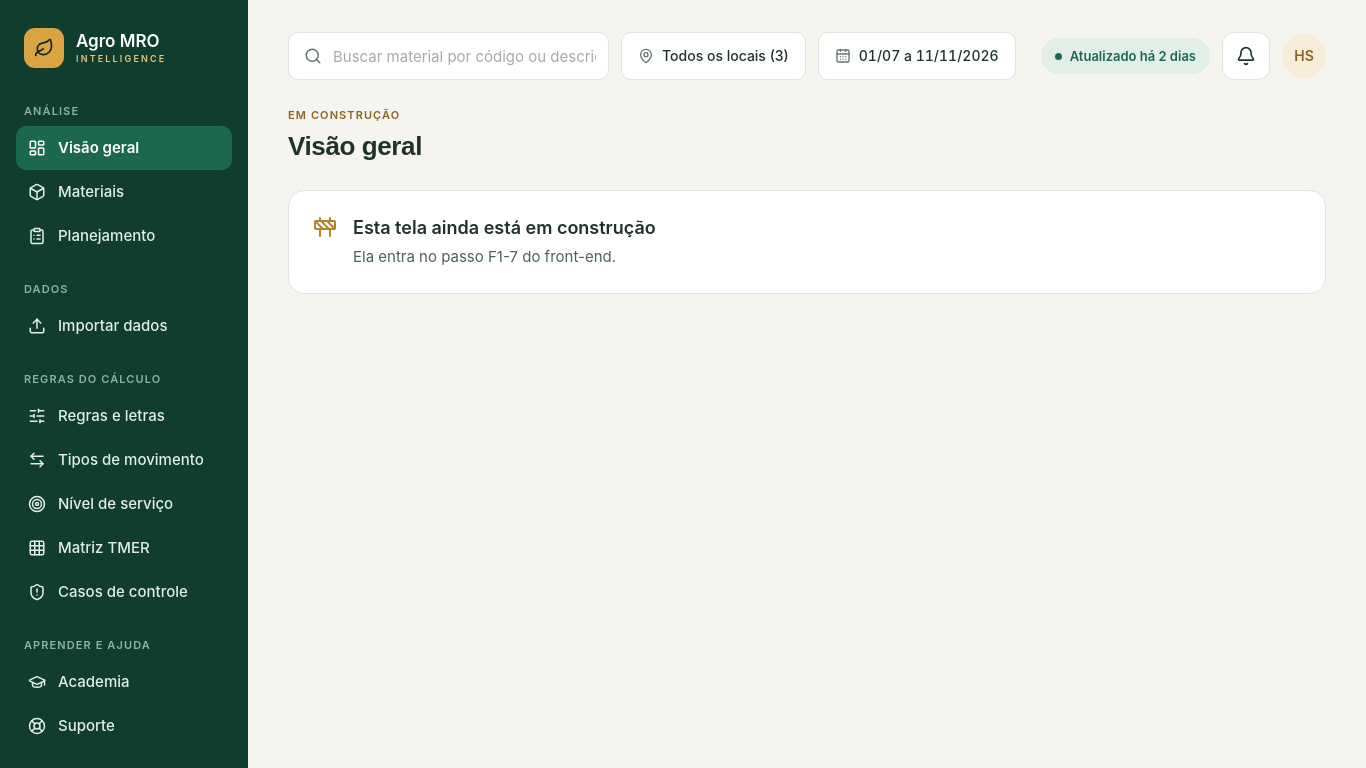
Test case: BuscaGlobal › ignora acento e marca o trecho encontrado
This screenshot has width=1366, height=768.
Type "oleo" into the dropdown named "Buscar material ou tela" at (449, 56), box [288,32,609,80]
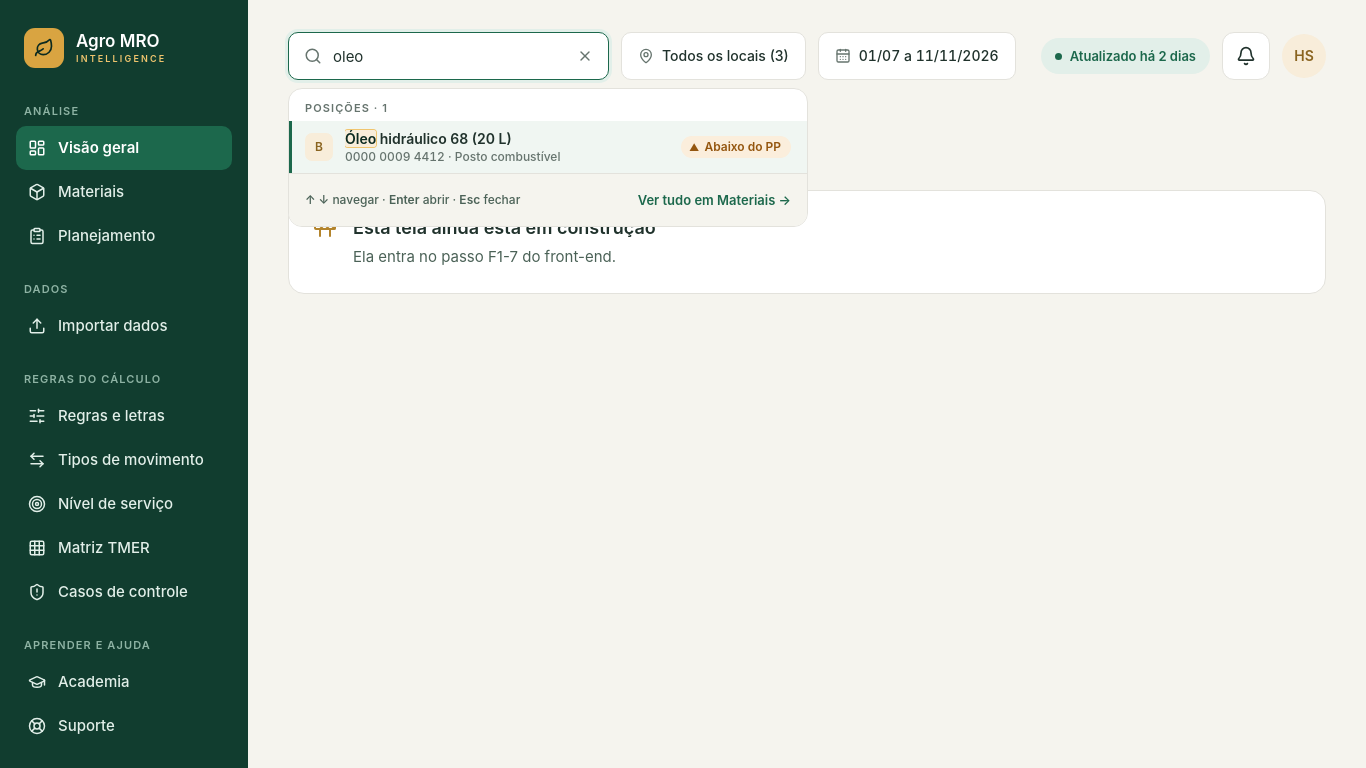
Now the text "Óleo" is shown, box [345,130,376,147]
Now the element "Posições · 1" is shown, box [289,89,807,173]
